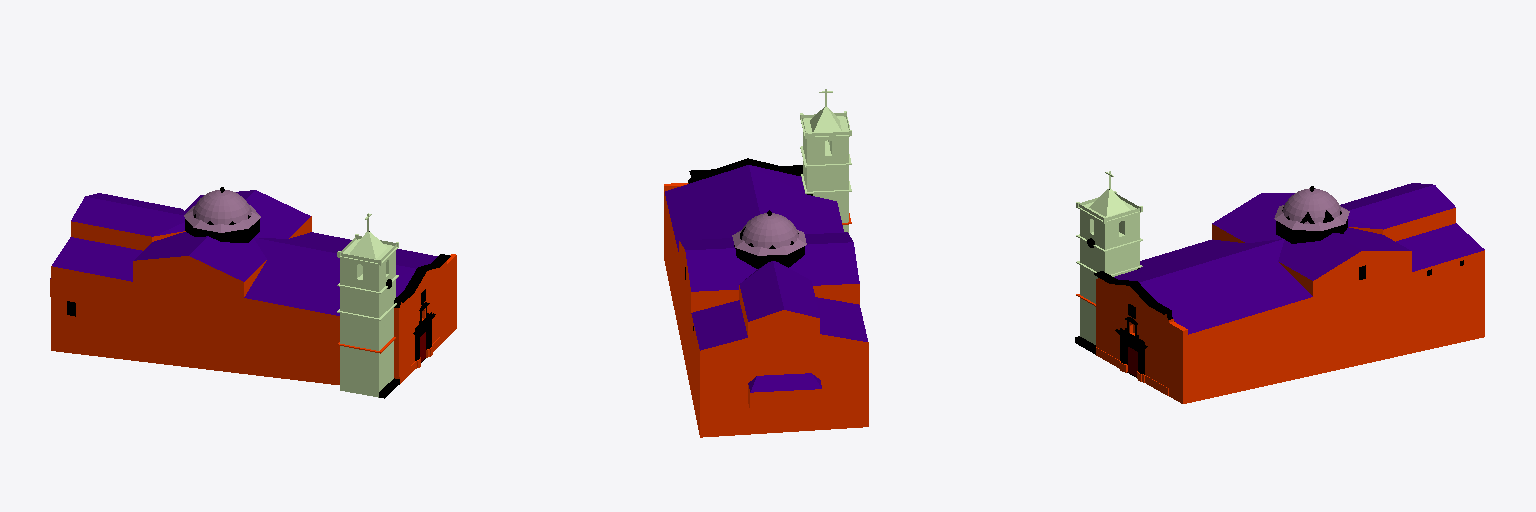
The model's file is RELIGIOUSchurch_mesh2095.obj.
The picture shows the model from 3 angles: view 1: azimuth 30°, elevation 25°; view 2: azimuth 150°, elevation 25°; view 3: azimuth 270°, elevation 25°; orthographic projection.
Visible parts, largest first — view 1: 6, 9, 7, 2, 10, 74, 118, 89, 120, 87, 121, 119 (+4 smaller); view 2: 6, 9, 7, 10, 8, 74, 11, 50, 89, 5, 111, 110 (+4 smaller); view 3: 6, 9, 7, 2, 85, 10, 8, 89, 15, 87, 126, 5 (+5 smaller).
Boxes of the visible parts, <box> form: 6: <box>51,216,339,384</box>; 9: <box>244,232,437,315</box>; 7: <box>134,190,310,281</box>; 2: <box>337,254,455,378</box>; 10: <box>71,193,186,236</box>; 74: <box>52,237,142,281</box>; 118: <box>343,347,376,396</box>; 89: <box>184,198,260,232</box>; 120: <box>343,314,376,349</box>; 87: <box>185,219,259,242</box>; 121: <box>343,288,376,316</box>; 119: <box>343,259,376,290</box>; 6: <box>673,231,868,437</box>; 9: <box>665,165,843,251</box>; 7: <box>680,232,859,291</box>; 10: <box>739,261,819,321</box>; 8: <box>691,300,747,350</box>; 74: <box>816,297,867,341</box>; 11: <box>748,385,822,410</box>; 50: <box>748,373,821,392</box>; 89: <box>732,223,806,255</box>; 5: <box>688,158,802,183</box>; 111: <box>810,166,845,191</box>; 110: <box>810,137,845,164</box>; 6: <box>1212,208,1484,386</box>; 9: <box>1114,239,1312,334</box>; 7: <box>1212,193,1410,280</box>; 2: <box>1076,278,1187,401</box>; 85: <box>1186,315,1253,403</box>; 10: <box>1340,183,1455,229</box>; 8: <box>1396,223,1484,271</box>; 89: <box>1274,198,1349,230</box>; 15: <box>1115,317,1147,374</box>; 87: <box>1276,219,1347,243</box>; 126: <box>1107,243,1142,276</box>; 5: <box>1094,271,1172,319</box>.
Size of the model in its own units: 0.6525 by 0.4007 by 0.7603.